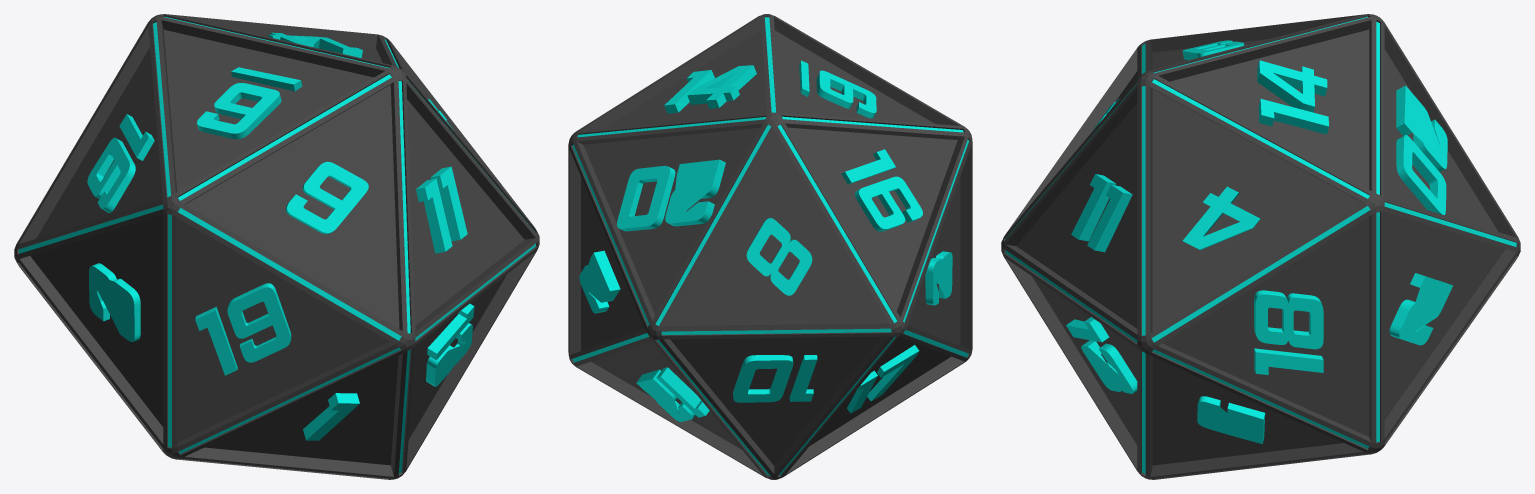
The model's file is D20_dice_final.fbx.
3 views of the same model, side by side, from view 1: azimuth 30°, elevation 25°; view 2: azimuth 150°, elevation 25°; view 3: azimuth 270°, elevation 25° (orthographic). The views are drawn at different scales.
Visible parts, largest first — view 1: d20BASE, Numbers, emissiveEdges; view 2: d20BASE, Numbers, emissiveEdges; view 3: d20BASE, Numbers, emissiveEdges.
Part boxes in pixels (bbox=[...]): d20BASE: bbox=[14, 14, 539, 479]; Numbers: bbox=[87, 32, 474, 440]; emissiveEdges: bbox=[19, 17, 535, 473]; d20BASE: bbox=[568, 14, 972, 479]; Numbers: bbox=[579, 60, 952, 421]; emissiveEdges: bbox=[572, 17, 968, 475]; d20BASE: bbox=[1001, 14, 1520, 479]; Numbers: bbox=[1066, 40, 1453, 444]; emissiveEdges: bbox=[1005, 16, 1516, 474].
Bounding box in the file's own units: 1.36 × 1.3 × 1.5.
